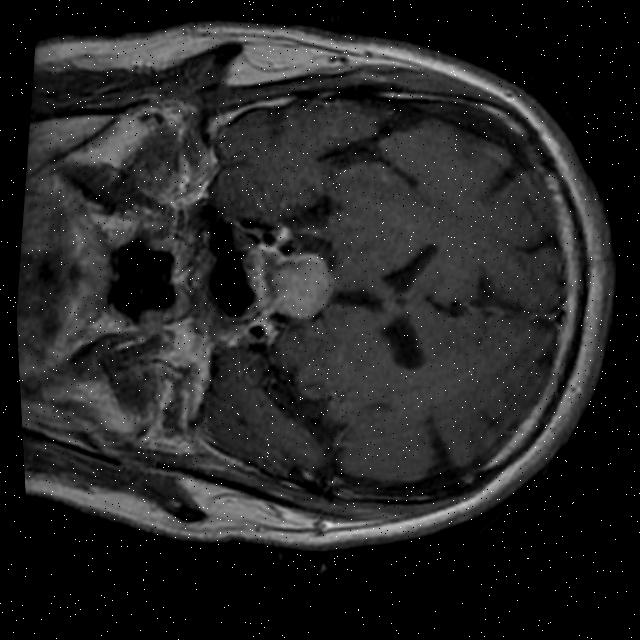Pituitary: (234, 236, 339, 329)
